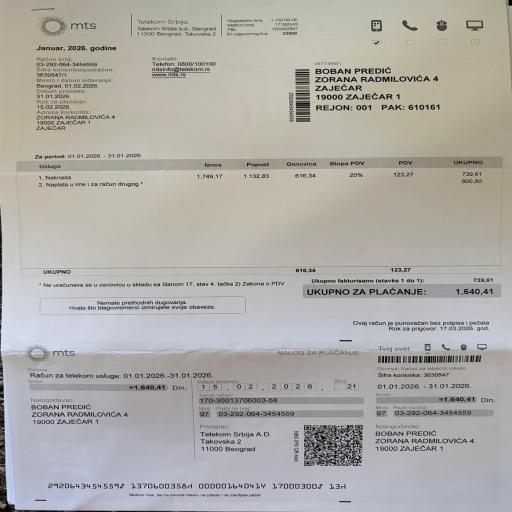mts: (32, 158, 495, 188)
mts_iznos: (306, 285, 500, 299)
mts_uplatnica: (376, 383, 502, 423)
